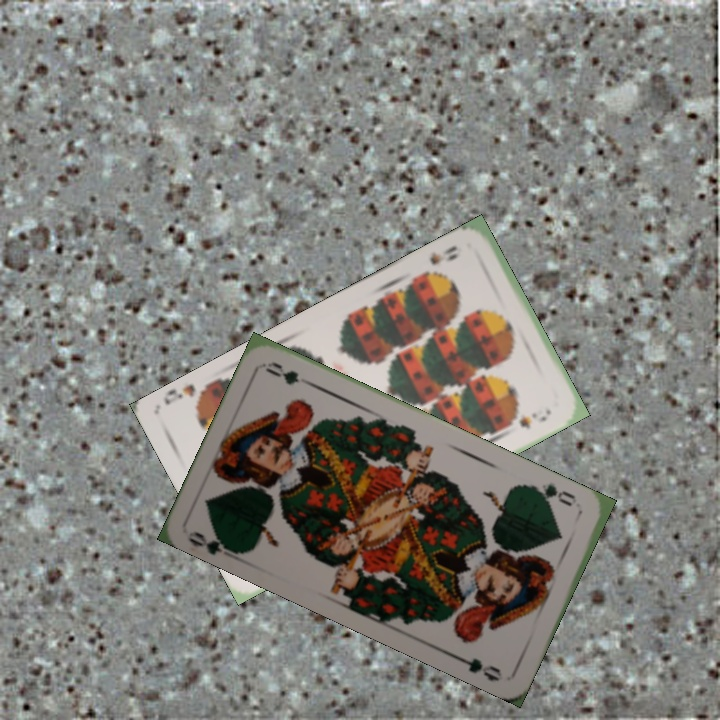GO: (184, 527, 243, 557), (529, 479, 580, 509)
S9: (417, 241, 460, 282)
